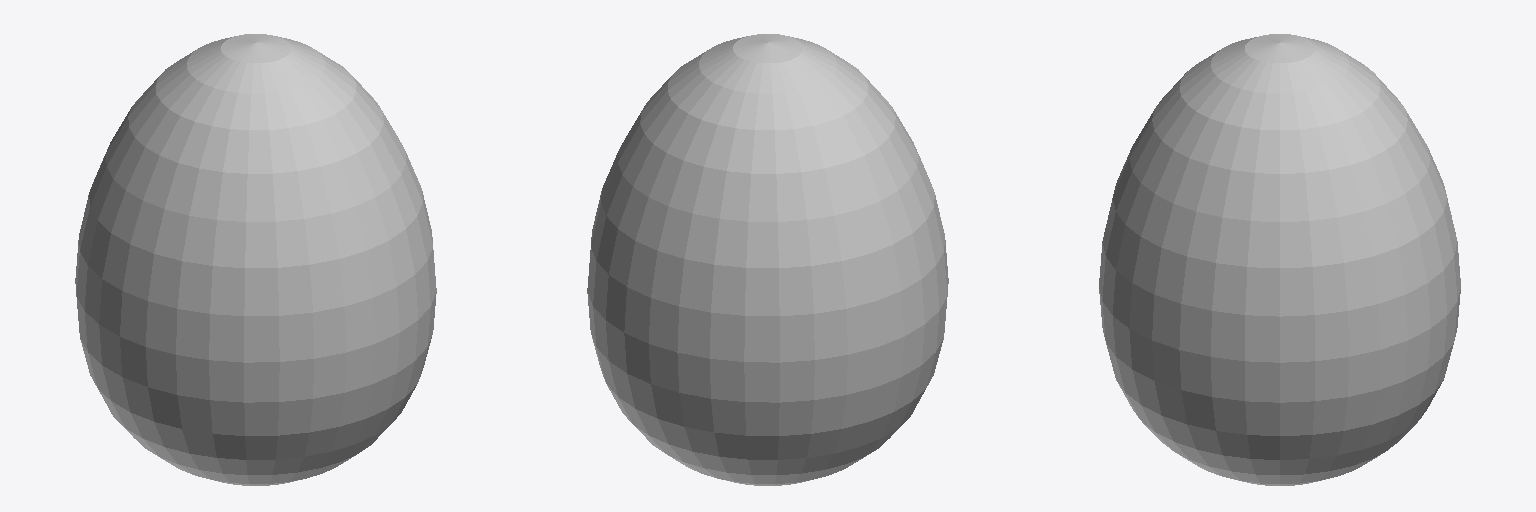
Rendered from _egg.obj.
The picture shows the model from 3 angles: view 1: azimuth 30°, elevation 25°; view 2: azimuth 150°, elevation 25°; view 3: azimuth 270°, elevation 25°; orthographic projection.
Visible parts, largest first — view 1: Sphere; view 2: Sphere; view 3: Sphere.
Part boxes in pixels (bbox=[...]): Sphere: bbox=[75, 34, 436, 485]; Sphere: bbox=[587, 34, 948, 485]; Sphere: bbox=[1099, 34, 1460, 485].
Bounding box in the file's own units: 2 × 2.6 × 2.